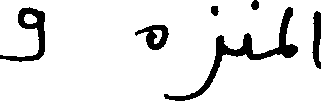9: (0, 5, 45, 62)
ا: (309, 9, 319, 69)
ز: (184, 3, 225, 98)
ل: (277, 5, 296, 43)
م: (270, 44, 299, 65)
ن: (239, 0, 258, 60)
ه: (144, 23, 166, 53)
